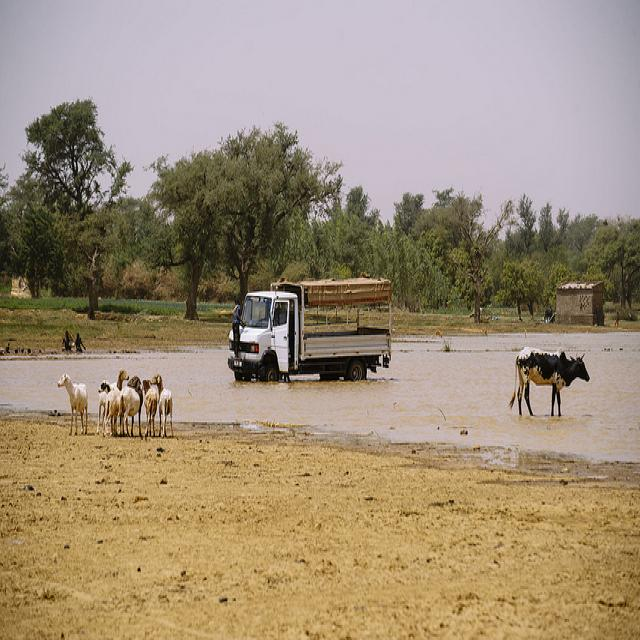Vehicle: (230, 276, 392, 381)
